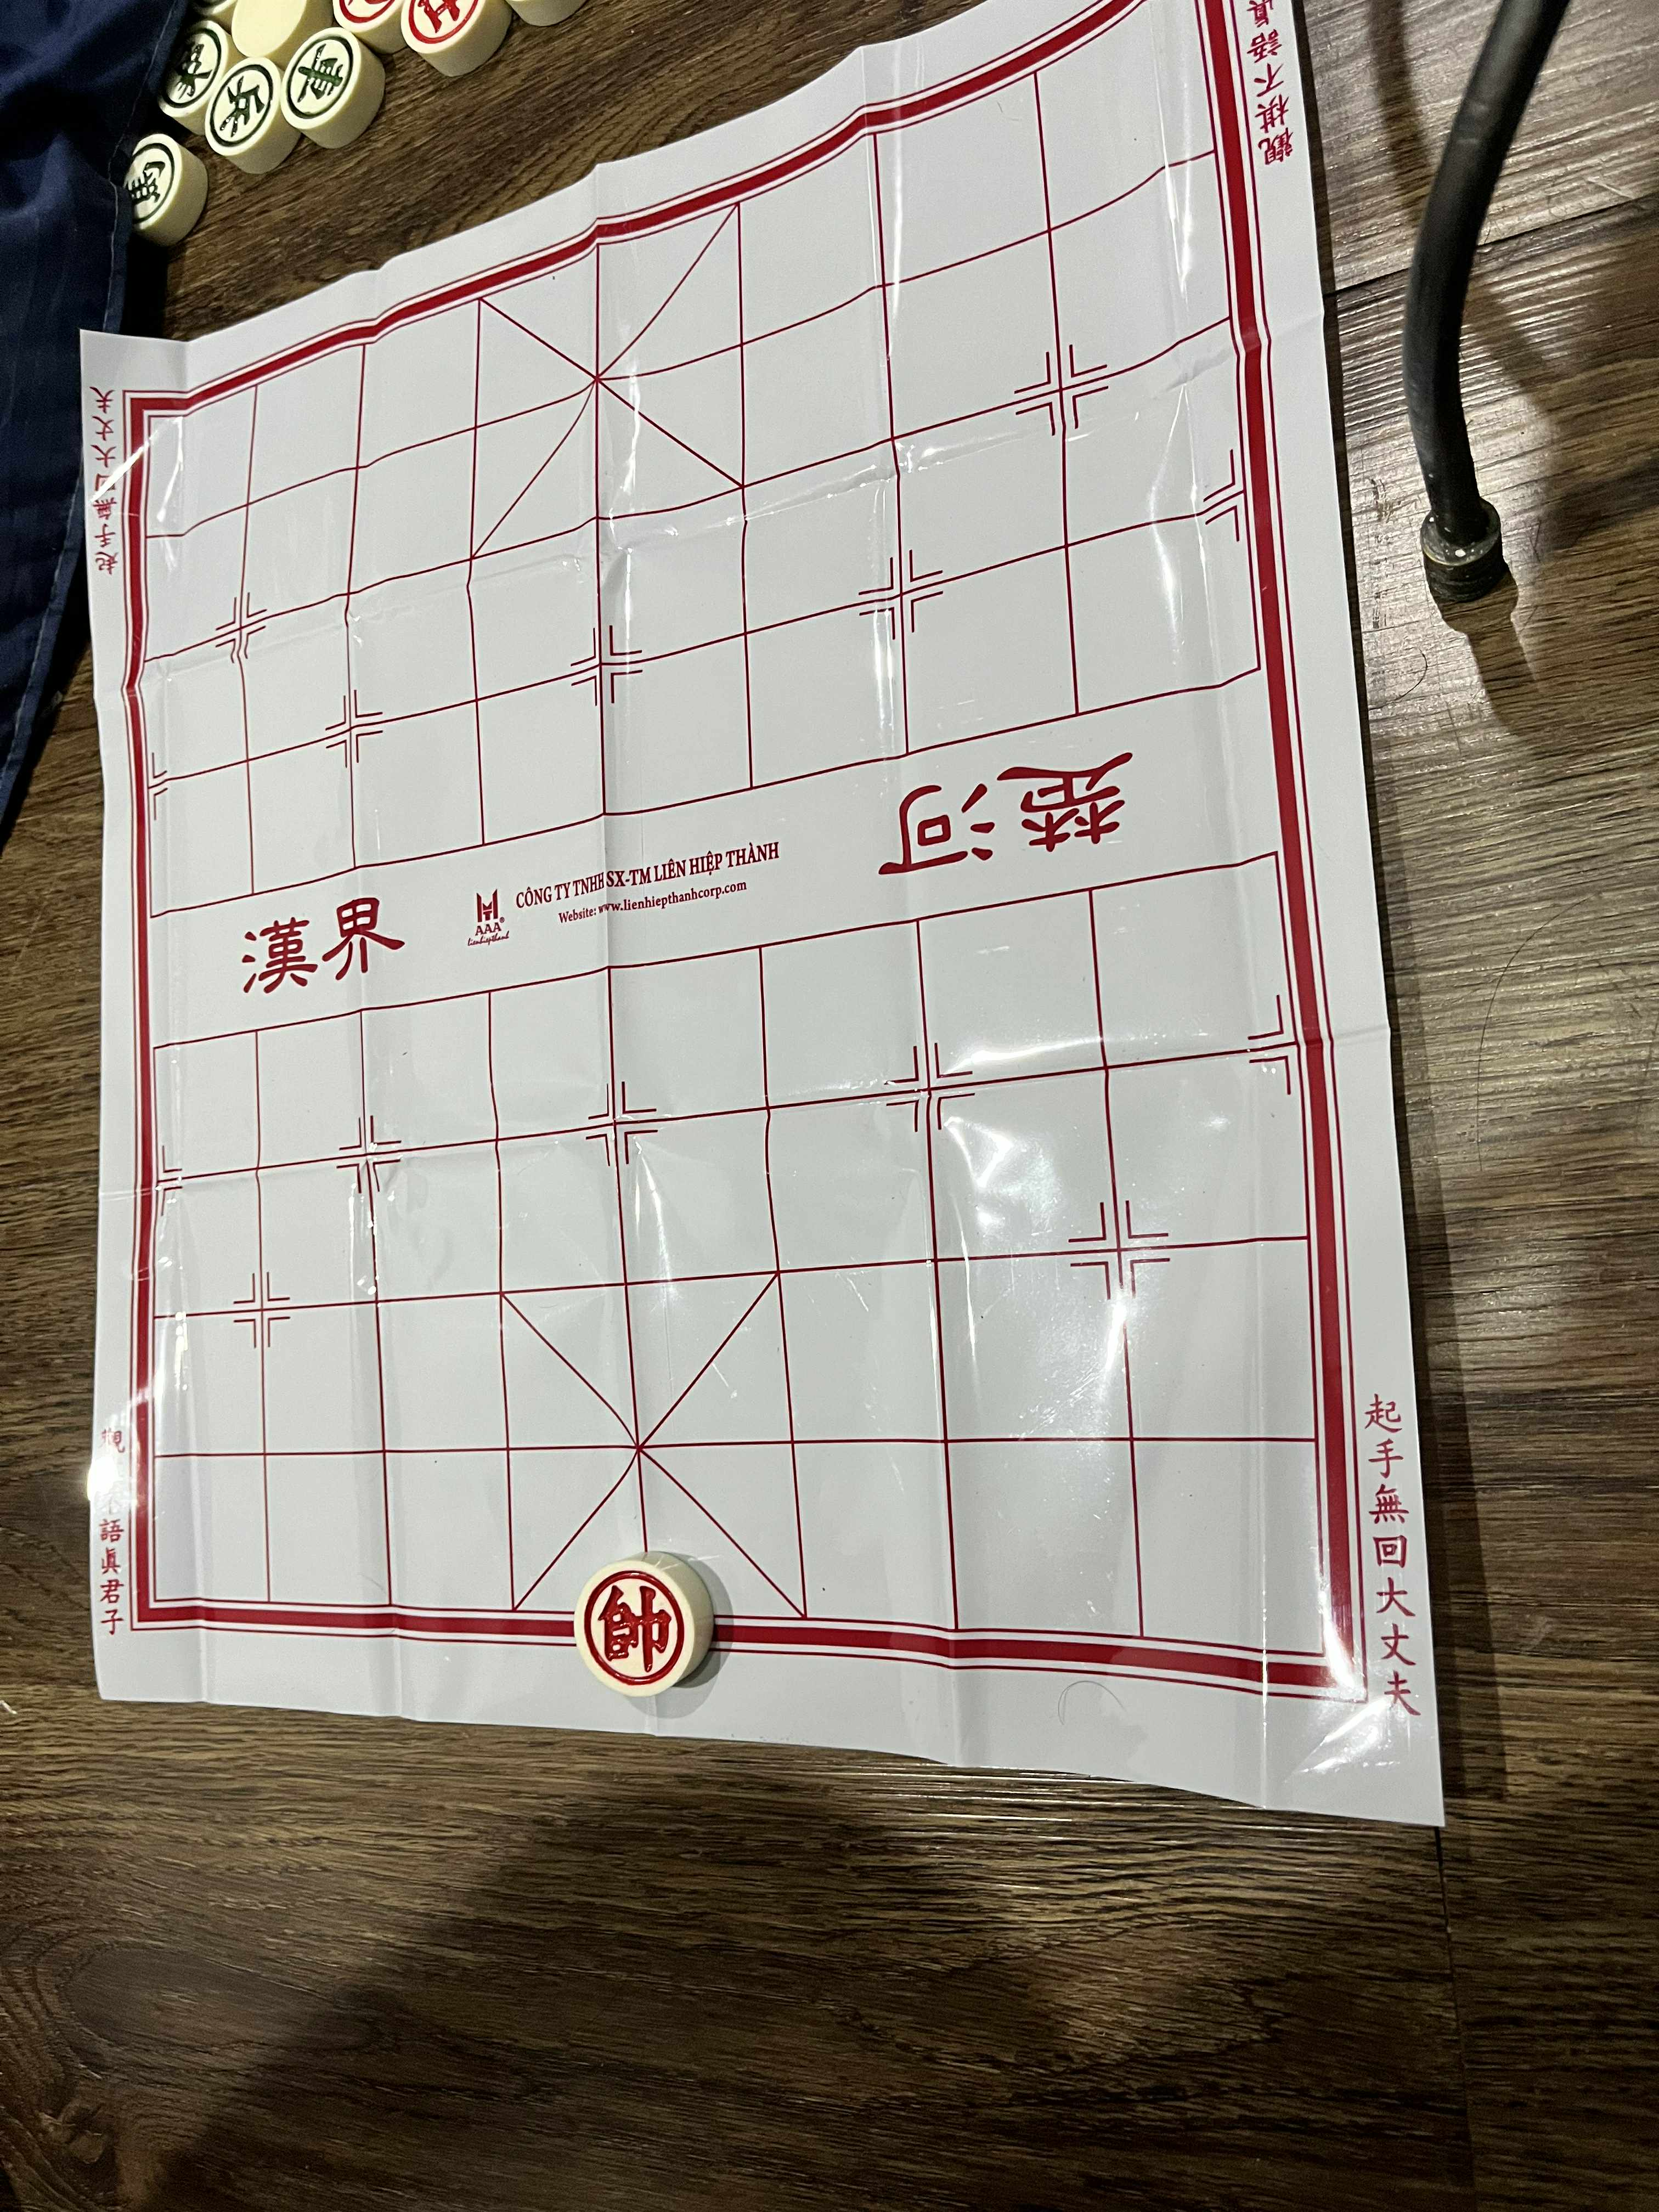red-general: (573, 1560, 696, 1698)
